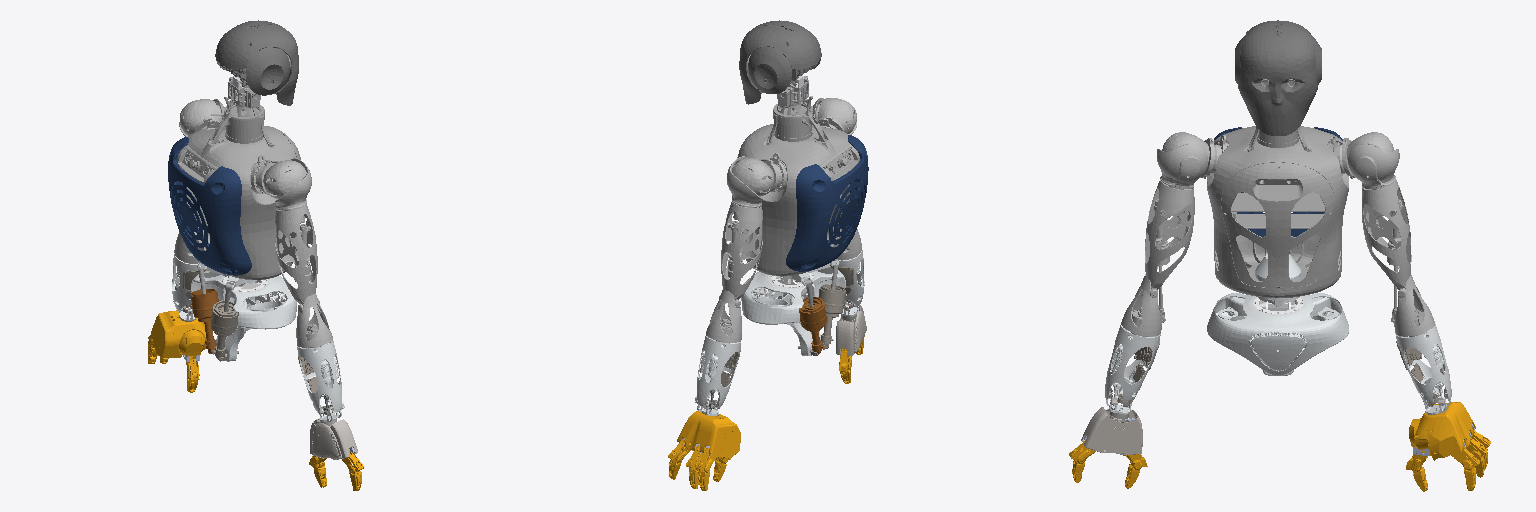
--- What the picture shows (computed from the rendered views, not written in the file) ---
The picture shows the robot from 3 angles, left to right: view 1: azimuth 30°, elevation 25°; view 2: azimuth 150°, elevation 25°; view 3: azimuth 270°, elevation 25°; orthographic projection.
Model RH5v2 with 53 links and 52 joints (39 revolute, 13 fixed), rooted at RH5v2_Root_Link, posed every joint at zero.
Visible links, largest first — view 1: BodyYaw_Link, RH5v2_Root_Link, HeadYaw_Link, ARShoulder3_Link, HeadBase_Link, ARWristRoll_Link, ARWristFT_Link, ALWristFT_Link, ARElbow_Link, ARShoulder1_Link, ALShoulder1_Link, ALWristRoll_Link (+2 smaller); view 2: BodyYaw_Link, RH5v2_Root_Link, HeadYaw_Link, ALShoulder3_Link, ALWristFT_Link, HeadBase_Link, ALWristRoll_Link, ALElbow_Link, ALShoulder1_Link, ARWristFT_Link, ARShoulder1_Link, ARWristRoll_Link (+1 smaller); view 3: BodyYaw_Link, RH5v2_Root_Link, HeadYaw_Link, ARShoulder3_Link, ALShoulder3_Link, ALWristFT_Link, ARWristRoll_Link, ALWristRoll_Link, ARWristFT_Link, ARShoulder2_Link, ALShoulder2_Link, ALElbow_Link (+4 smaller).
Boxes of the visible links, x1,y1,x2,y2 form: BodyYaw_Link: (168,126,300,279); RH5v2_Root_Link: (191,262,296,361); HeadYaw_Link: (215,20,298,105); ARShoulder3_Link: (275,204,317,309); HeadBase_Link: (208,76,271,146); ARWristRoll_Link: (297,340,341,414); ARWristFT_Link: (309,418,363,470); ALWristFT_Link: (148,310,206,357); ARElbow_Link: (296,293,332,350); ARShoulder1_Link: (259,160,306,198); ALShoulder1_Link: (180,99,221,135); ALWristRoll_Link: (172,253,206,311); BodyYaw_Link: (737,124,868,275); RH5v2_Root_Link: (741,259,845,355); HeadYaw_Link: (739,20,821,104); ALShoulder3_Link: (721,202,762,305); ALWristFT_Link: (668,411,740,469); HeadBase_Link: (766,76,828,144); ALWristRoll_Link: (697,336,740,408); ALElbow_Link: (706,289,741,345); ALShoulder1_Link: (732,158,778,195); ARWristFT_Link: (836,303,866,371); ARShoulder1_Link: (815,98,856,133); ARWristRoll_Link: (830,250,864,307); BodyYaw_Link: (1207,126,1348,297); RH5v2_Root_Link: (1207,293,1348,375); HeadYaw_Link: (1235,20,1321,135); ARShoulder3_Link: (1145,179,1194,319); ALShoulder3_Link: (1362,180,1411,315); ALWristFT_Link: (1414,402,1490,465); ARWristRoll_Link: (1105,325,1160,406); ALWristRoll_Link: (1395,324,1451,406); ARWristFT_Link: (1069,407,1147,466); ARShoulder2_Link: (1157,144,1207,188); ALShoulder2_Link: (1348,144,1399,188); ALElbow_Link: (1391,275,1434,336).
Bounding box of the posed robot: 0.3432 × 1.02 × 1.23 m (x, y, z).
Meshes: 83 distinct files referenced, 107 mesh visuals loaded (82 binary STL); not drawn: 1 (reference not matched to a file when rendering).

The robot description file, URDF, robot "RH5v2":
<robot name="RH5v2">
  <joint name="ALBase" type="fixed">
    <origin xyz="-0.025162 0.126091 0.35059" rpy="-6.2e-05 -0.23628 1.309002"/>
    <parent link="BodyYaw_Link"/>
    <child link="ALBase_Link"/>
  </joint>
  <link name="ALBase_Link">
    <inertial>
      <origin xyz="0.0079897 -7.1316e-07 0.00019625" rpy="0.0 0.0 0.0"/>
      <mass value="1.1943"/>
      <inertia ixx="0.00089755" ixy="1.4484e-08" ixz="-2.6127e-07" iyy="0.00057565" iyz="-7.8027e-07" izz="0.00056347"/>
    </inertial>
    <visual name="ALBase_Link_Visual">
      <origin xyz="0.0 0.0 0.0" rpy="0.0 0.0 0.0"/>
      <geometry>
        <mesh filename="../meshes/ALBase_Link.stl"/>
      </geometry>
      <material name="">
        <color rgba="0.75294 0.75294 0.75294 1.0"/>
      </material>
    </visual>
  </link>
  <joint name="ALElbow" type="revolute">
    <origin xyz="0.0 0.001 0.3511" rpy="0.0 0.0 0.0"/>
    <axis xyz="1.0 0.0 0.0"/>
    <parent link="ALShoulder3_Link"/>
    <child link="ALElbow_Link"/>
    <limit effort="400.0" lower="-1.832" upper="0.0" velocity="3.1415926"/>
  </joint>
  <link name="ALElbow_Link">
    <inertial>
      <origin xyz="-7.016e-05 0.001127 0.080286" rpy="0.0 0.0 0.0"/>
      <mass value="0.63578"/>
      <inertia ixx="0.00050999" ixy="2.2297e-07" ixz="4.047e-07" iyy="0.00051633" iyz="-4.4233e-05" izz="0.00046537"/>
    </inertial>
    <visual name="ALElbow_Link_Visual">
      <origin xyz="0.0 0.0 0.0" rpy="0.0 0.0 0.0"/>
      <geometry>
        <mesh filename="../meshes/ALElbow_Link.stl"/>
      </geometry>
      <material name="">
        <color rgba="0.75294 0.75294 0.75294 1.0"/>
      </material>
    </visual>
  </link>
  <joint name="ALShoulder1" type="revolute">
    <origin xyz="0.1076 0.0 0.0" rpy="3.1416 0.0 0.0"/>
    <axis xyz="1.0 0.0 0.0"/>
    <parent link="ALBase_Link"/>
    <child link="ALShoulder1_Link"/>
    <limit effort="400.0" lower="-3.141" upper="3.141" velocity="3.1415926"/>
  </joint>
  <link name="ALShoulder1_Link">
    <inertial>
      <origin xyz="-0.0091569 0.0036464 -0.00016872" rpy="0.0 0.0 0.0"/>
      <mass value="1.602"/>
      <inertia ixx="0.0012117" ixy="-8.0704e-05" ixz="-3.528e-06" iyy="0.0015561" iyz="-2.6511e-06" izz="0.0010024"/>
    </inertial>
    <visual name="ALShoulder1_Link_Visual">
      <origin xyz="0.0 0.0 0.0" rpy="0.0 0.0 0.0"/>
      <geometry>
        <mesh filename="../meshes/ALShoulder1_Link.stl"/>
      </geometry>
      <material name="">
        <color rgba="0.75294 0.75294 0.75294 1.0"/>
      </material>
    </visual>
    <collision name="ALShoulder1_Link_Collision">
      <origin xyz="-0.005334 -0.004665 -0.002299" rpy="1.570796 -1.568017 0.0"/>
      <geometry>
        <box size="0.10423156429999514 0.11759469191533183 0.11808828264474869"/>
      </geometry>
    </collision>
  </link>
  <joint name="ALShoulder2" type="revolute">
    <origin xyz="0.0 0.0 0.0" rpy="0.0 0.0 0.0"/>
    <axis xyz="0.0 1.0 0.0"/>
    <parent link="ALShoulder1_Link"/>
    <child link="ALShoulder2_Link"/>
    <limit effort="400.0" lower="-0.253" upper="1.85" velocity="3.1415926"/>
  </joint>
  <link name="ALShoulder2_Link">
    <inertial>
      <origin xyz="0.010763 0.020477 0.0278" rpy="0.0 0.0 0.0"/>
      <mass value="0.50849"/>
      <inertia ixx="0.0010465" ixy="0.00012061" ixz="5.4855e-05" iyy="0.00092568" iyz="0.00027501" izz="0.0010393"/>
    </inertial>
    <visual name="ALShoulder2_Link_Visual">
      <origin xyz="0.0 0.0 0.0" rpy="0.0 0.0 0.0"/>
      <geometry>
        <mesh filename="../meshes/ALShoulder2_Link.stl"/>
      </geometry>
      <material name="">
        <color rgba="0.75294 0.75294 0.75294 1.0"/>
      </material>
    </visual>
  </link>
  <joint name="ALShoulder3" type="revolute">
    <origin xyz="0.0 0.0 0.0" rpy="0.0 0.0 1.5707"/>
    <axis xyz="0.0 0.0 1.0"/>
    <parent link="ALShoulder2_Link"/>
    <child link="ALShoulder3_Link"/>
    <limit effort="400.0" lower="-3.141" upper="3.141" velocity="3.1415926"/>
  </joint>
  <link name="ALShoulder3_Link">
    <inertial>
      <origin xyz="-3.2703e-05 0.0033688 0.14648" rpy="0.0 0.0 0.0"/>
      <mass value="1.2339570989024182"/>
      <inertia ixx="0.003018389690136292" ixy="5.244538628867092e-07" ixz="-7.893330721032432e-07" iyy="0.002949872956950925" iyz="8.820081539895284e-05" izz="0.0008757347333216593"/>
    </inertial>
    <visual name="ALShoulder3_Link_Visual">
      <origin xyz="0.0 0.0 0.0" rpy="0.0 0.0 0.0"/>
      <geometry>
        <mesh filename="../meshes/ALShoulder3_Link.stl"/>
      </geometry>
      <material name="">
        <color rgba="0.75294 0.75294 0.75294 1.0"/>
      </material>
    </visual>
    <visual name="ALElbowB11_Link_Visual">
      <origin xyz="0.0 -0.029 0.1391" rpy="-0.25319 0.0 0.0"/>
      <geometry>
        <mesh filename="../meshes/ALElbow_B11_Link.stl"/>
      </geometry>
      <material name="">
        <color rgba="0.75294 0.75294 0.75294 1.0"/>
      </material>
    </visual>
    <visual name="ALElbowAct_Link_Visual">
      <origin xyz="0.0 0.045001 0.425102" rpy="-0.25319 0.0 0.0"/>
      <geometry>
        <mesh filename="../meshes/ALElbow_Act_Link.stl"/>
      </geometry>
      <material name="">
        <color rgba="0.75294 0.75294 0.75294 1.0"/>
      </material>
    </visual>
    <collision name="ALShoulder3_Link_Collision">
      <origin xyz="0.000897 0.015259 0.247292" rpy="3.071603 0.037077 0.479525"/>
      <geometry>
        <cylinder radius="0.04989704605643945" length="0.37510071270897083"/>
      </geometry>
    </collision>
  </link>
  <joint name="ALWristFT" type="fixed">
    <origin xyz="-1.2399e-05 0.0 0.042748" rpy="0.0 0.0 1.5708"/>
    <parent link="ALWristYaw_Link"/>
    <child link="ALWristFT_Link"/>
  </joint>
  <link name="ALWristFT_Link">
    <inertial>
      <origin xyz="-3.68488827482899e-05 -5.88316189521624e-05 -0.00791199218667672" rpy="0.0 0.0 0.0"/>
      <mass value="2.3236142268470132"/>
      <inertia ixx="0.0016940457940833257" ixy="5.327619969251473e-05" ixz="3.918511751113743e-06" iyy="0.0009331975295453429" iyz="-2.582742097403667e-05" izz="0.001329614684356007"/>
    </inertial>
    <visual name="ALWristFT_Link_Visual">
      <origin xyz="0.0 0.0 0.0" rpy="0.0 0.0 0.0"/>
      <geometry>
        <mesh filename="../meshes/ALWristFT_Link.stl"/>
      </geometry>
      <material name="">
        <color rgba="0.698039215686274 0.698039215686274 0.698039215686274 1.0"/>
      </material>
    </visual>
    <visual name="GLBase_Visual">
      <origin xyz="0.0 0.0 0.0" rpy="-3.141592 0.0 0.0"/>
      <geometry>
        <mesh filename="../meshes/GripperLeft_BaseFrame.stl" scale="1.0 1.0 1.0"/>
      </geometry>
      <material name="">
        <color rgba="0.94118 0.67451 0.11765 1.0"/>
      </material>
    </visual>
    <visual name="GLF1Base_Visual">
      <origin xyz="-0.013458 -0.038971 0.065211" rpy="1.7921 0.1664 -1.533593"/>
      <geometry>
        <mesh filename="../meshes/Finger_Base_Frame.stl"/>
      </geometry>
      <material name="">
        <color rgba="0.79216 0.81961 0.93333 1.0"/>
      </material>
    </visual>
    <visual name="GLF1ProximalBar_Visual">
      <origin xyz="-0.053439 -0.029588 0.079319" rpy="0.6783 0.1664 -1.533593"/>
      <geometry>
        <mesh filename="../meshes/F_ProximalBar_Frame.stl"/>
      </geometry>
      <material name="">
        <color rgba="0.94118 0.67451 0.11765 1.0"/>
      </material>
    </visual>
    <visual name="GLF2Base_Visual">
      <origin xyz="-0.014454 0.012122 0.06971" rpy="1.7907 -0.12478 -1.598593"/>
      <geometry>
        <mesh filename="../meshes/Finger_Base_Frame.stl"/>
      </geometry>
      <material name="">
        <color rgba="0.79216 0.81961 0.93333 1.0"/>
      </material>
    </visual>
    <visual name="GLF2ProximalBar_Visual">
      <origin xyz="-0.053624 0.02768 0.080161" rpy="0.6769 -0.12478 -1.598593"/>
      <geometry>
        <mesh filename="../meshes/F_ProximalBar_Frame.stl"/>
      </geometry>
      <material name="">
        <color rgba="0.94118 0.67451 0.11765 1.0"/>
      </material>
    </visual>
    <visual name="GLF3Base_Visual">
      <origin xyz="-0.013488 0.046837 0.065354" rpy="1.7907 -0.124785 -1.598609"/>
      <geometry>
        <mesh filename="../meshes/Finger_Base_Frame.stl"/>
      </geometry>
      <material name="">
        <color rgba="0.79216 0.81961 0.93333 1.0"/>
      </material>
    </visual>
    <visual name="GLF3ProximalBar_Visual">
      <origin xyz="-0.052657 0.062395 0.075805" rpy="0.6769 -0.124785 -1.598609"/>
      <geometry>
        <mesh filename="../meshes/F_ProximalBar_Frame.stl"/>
      </geometry>
      <material name="">
        <color rgba="0.94118 0.67451 0.11765 1.0"/>
      </material>
    </visual>
    <collision name="ALWristFT_Link_Collision">
      <origin xyz="0.0 0.0 0.0" rpy="0.0 0.0 0.0"/>
      <geometry>
        <mesh filename="../meshes/ALWristFT_Link_abstract-urdf_joined_convexhull_convexhull.stl" scale="1.0 1.0 1.0"/>
      </geometry>
    </collision>
  </link>
  <joint name="ALWristPitch" type="revolute">
    <origin xyz="0.173 0.0 0.0" rpy="-3.141592 -1.5707 0.0"/>
    <axis xyz="1.0 0.0 0.0"/>
    <parent link="ALWristRoll_Link"/>
    <child link="ALWristPitch_Link"/>
    <limit effort="400.0" lower="-0.741" upper="1.75" velocity="3.1415926"/>
  </joint>
  <link name="ALWristPitch_Link">
    <inertial>
      <origin xyz="7.46248686255566e-19 -1.12543960307545e-16 -1.73472347597681e-18" rpy="0.0 0.0 0.0"/>
      <mass value="0.0303458029555441"/>
      <inertia ixx="1.0000000011242503e-05" ixy="-1.991593733750814e-21" ixz="1.3686128944734017e-10" iyy="1.0143779057796202e-05" iyz="1.3756897885334319e-10" izz="1.1666089364158581e-05"/>
    </inertial>
    <visual name="ALWristPitch_Link_Visual">
      <origin xyz="0.0 0.0 0.0" rpy="0.0 0.0 0.0"/>
      <geometry>
        <mesh filename="../meshes/ALWristPitch_Link.stl"/>
      </geometry>
      <material name="">
        <color rgba="0.647058823529412 0.619607843137255 0.588235294117647 1.0"/>
      </material>
    </visual>
  </link>
  <joint name="ALWristRoll" type="revolute">
    <origin xyz="0.0 0.0 0.122" rpy="3.1416 -1.5708 0.0"/>
    <axis xyz="1.0 0.0 0.0"/>
    <parent link="ALElbow_Link"/>
    <child link="ALWristRoll_Link"/>
    <limit effort="400.0" lower="-3.141" upper="3.141" velocity="3.1415926"/>
  </joint>
  <link name="ALWristRoll_Link">
    <inertial>
      <origin xyz="-1.6653e-16 -1.9082e-17 -1.3878e-17" rpy="0.0 0.0 0.0"/>
      <mass value="0.7033685822573504"/>
      <inertia ixx="0.0005821306127384855" ixy="-2.154099528058666e-05" ixz="8.844203152040483e-08" iyy="0.0014430712704366834" iyz="-3.423769519967645e-07" izz="0.001429208900586326"/>
    </inertial>
    <visual name="ALWristRoot_Link_Visual">
      <origin xyz="0.173 0.0 0.0" rpy="-3.141592 -1.5707 0.0"/>
      <geometry>
        <mesh filename="../meshes/ALWrist_Root_Link.stl"/>
      </geometry>
      <material name="">
        <color rgba="0.64706 0.61961 0.58824 1.0"/>
      </material>
    </visual>
    <visual name="ALWristBL1_Link_Visual">
      <origin xyz="0.141001 -0.011 0.015503" rpy="0.259193 -1.5707 0.0"/>
      <geometry>
        <mesh filename="../meshes/ALWrist_BL1_Link.stl"/>
      </geometry>
      <material name="">
        <color rgba="0.89804 0.91765 0.92941 1.0"/>
      </material>
    </visual>
    <visual name="ALWristBR1_Link_Visual">
      <origin xyz="0.140999 -0.011 -0.015497" rpy="0.259193 -1.5707 0.0"/>
      <geometry>
        <mesh filename="../meshes/ALWrist_BR1_Link.stl"/>
      </geometry>
      <material name="">
        <color rgba="0.89804 0.91765 0.92941 1.0"/>
      </material>
    </visual>
    <visual name="ALWristAL1_Link_Visual">
      <origin xyz="-0.004999 0.034 0.015517" rpy="-1.553092 -1.5707 0.0"/>
      <geometry>
        <mesh filename="../meshes/ALWrist_AL1_Link.stl"/>
      </geometry>
      <material name="">
        <color rgba="0.898039215686275 0.917647058823529 0.929411764705882 1.0"/>
      </material>
    </visual>
    <visual name="ALWristAR1_Link_Visual">
      <origin xyz="-0.005002 0.034 -0.015483" rpy="-1.553092 -1.5707 0.0"/>
      <geometry>
        <mesh filename="../meshes/ALWrist_AR1_Link.stl"/>
      </geometry>
      <material name="">
        <color rgba="0.89804 0.91765 0.92941 1.0"/>
      </material>
    </visual>
    <visual name="ALWristActL_Link_Visual">
      <origin xyz="0.12844 0.036363 0.015504" rpy="-3.123892 -1.5707 0.0"/>
      <geometry>
        <mesh filename="../meshes/ALWrist_ActL_Link.stl"/>
      </geometry>
      <material name="">
        <color rgba="0.77647 0.75686 0.73725 1.0"/>
      </material>
    </visual>
    <visual name="ALWristActR_Link_Visual">
      <origin xyz="0.128437 0.036363 -0.015496" rpy="-3.123892 -1.5707 0.0"/>
      <geometry>
        <mesh filename="../meshes/ALWrist_ActR_Link.stl"/>
      </geometry>
      <material name="">
        <color rgba="0.776470588235294 0.756862745098039 0.737254901960784 1.0"/>
      </material>
    </visual>
    <visual name="ALWristBase_Link_Visual">
      <origin xyz="0.005 0.0 1.6e-05" rpy="3.141592 0.0001 0.0"/>
      <geometry>
        <mesh filename="../meshes/ALWrist_Base_Link.stl"/>
      </geometry>
      <material name="">
        <color rgba="0.898039215686275 0.917647058823529 0.929411764705882 1.0"/>
      </material>
    </visual>
    <collision name="ALWristRoll_Link_Collision">
      <origin xyz="0.081951 0.005319 -0.000273" rpy="1.529155 1.46726 -1.538407"/>
      <geometry>
        <cylinder radius="0.051451062143852824" length="0.19892359808020985"/>
      </geometry>
    </collision>
  </link>
  <joint name="ALWristYaw" type="revolute">
    <origin xyz="0.0 0.0 0.0" rpy="0.0 0.0 0.0"/>
    <axis xyz="0.0 1.0 0.0"/>
    <parent link="ALWristPitch_Link"/>
    <child link="ALWristYaw_Link"/>
    <limit effort="400.0" lower="-0.558" upper="0.593" velocity="3.1415926"/>
  </joint>
  <link name="ALWristYaw_Link">
    <inertial>
      <origin xyz="-5.96363888886987e-05 -0.0112217565403197 0.0117774710310118" rpy="0.0 0.0 0.0"/>
      <mass value="0.10750136275617479"/>
      <inertia ixx="9.569999289058725e-05" ixy="3.991714785811547e-09" ixz="8.851102122859254e-10" iyy="9.18996227981749e-05" iyz="-1.4768286024721997e-06" izz="9.710214049049775e-05"/>
    </inertial>
    <visual name="ALWristYaw_Link_Visual">
      <origin xyz="0.0 0.0 0.0" rpy="0.0 0.0 0.0"/>
      <geometry>
        <mesh filename="../meshes/ALWristYaw_Link.stl"/>
      </geometry>
      <material name="">
        <color rgba="0.898039215686275 0.917647058823529 0.929411764705882 1.0"/>
      </material>
    </visual>
    <visual name="ALWristBL4_Link_Visual">
      <origin xyz="0.027 -0.03 0.0" rpy="2.9998 0.0 0.0"/>
      <geometry>
        <mesh filename="../meshes/ALWrist_BL4_Link.stl"/>
      </geometry>
      <material name="">
        <color rgba="0.776470588235294 0.756862745098039 0.737254901960784 1.0"/>
      </material>
    </visual>
    <visual name="ALWristBR4_Link_Visual">
      <origin xyz="-0.027 -0.03 0.0" rpy="-2.9998 0.0 3.141585"/>
      <geometry>
        <mesh filename="../meshes/ALWrist_BR4_Link.stl"/>
      </geometry>
      <material name="">
        <color rgba="0.647058823529412 0.619607843137255 0.588235294117647 1.0"/>
      </material>
    </visual>
    <visual name="ALWristBL3_Link_Visual">
      <origin xyz="0.027 -0.03 0.0" rpy="2.999779 0.017082 -0.002439"/>
      <geometry>
        <mesh filename="../meshes/ALWrist_BL3_Link.stl"/>
      </geometry>
      <material name="">
        <color rgba="0.898039215686275 0.917647058823529 0.929411764705882 1.0"/>
      </material>
    </visual>
    <visual name="ALWristBR3_Link_Visual">
      <origin xyz="-0.027 -0.03 0.0" rpy="-2.999779 0.017082 -3.139161"/>
      <geometry>
        <mesh filename="../meshes/ALWrist_BR3_Link.stl"/>
      </geometry>
      <material name="">
        <color rgba="0.529411764705882 0.549019607843137 0.549019607843137 1.0"/>
      </material>
    </visual>
    <visual name="ALWristBL2_Link_Visual">
      <origin xyz="0.026223 -0.036361 -0.04456" rpy="2.999779 0.017082 -0.002439"/>
      <geometry>
        <mesh filename="../meshes/ALWrist_BL2_Link.stl"/>
      </geometry>
      <material name="">
        <color rgba="0.647058823529412 0.619607843137255 0.588235294117647 1.0"/>
      </material>
    </visual>
    <visual name="ALWristBR2_Link_Visual">
      <origin xyz="-0.026223 -0.036361 -0.04456" rpy="-2.999779 0.017082 -3.139161"/>
      <geometry>
        <mesh filename="../meshes/ALWrist_BR2_Link.stl"/>
      </geometry>
      <material name="">
        <color rgba="0.647058823529412 0.619607843137255 0.588235294117647 1.0"/>
      </material>
    </visual>
  </link>
  <joint name="ARBase" type="fixed">
    <origin xyz="-0.025162 -0.126089 0.35059" rpy="6e-05 -0.236287 -1.308995"/>
    <parent link="BodyYaw_Link"/>
    <child link="ARBase_Link"/>
  </joint>
  <link name="ARBase_Link">
    <inertial>
      <origin xyz="0.00799 1e-06 0.000196" rpy="0.0 0.0 0.0"/>
      <mass value="1.194300000000001"/>
      <inertia ixx="0.00089755" ixy="-1.4484e-08" ixz="-2.6127e-07" iyy="0.00057565" iyz="7.8027e-07" izz="0.00056347"/>
    </inertial>
    <visual name="ARBase_Link_Visual">
      <origin xyz="0.0 0.0 0.0" rpy="3.141593 0.0 0.0"/>
      <geometry>
        <mesh filename="../meshes/ARBase_Link.stl" scale="1.0 1.0 1.0"/>
      </geometry>
      <material name="">
        <color rgba="0.75294 0.75294 0.75294 1.0"/>
      </material>
    </visual>
  </link>
  <joint name="ARElbow" type="revolute">
    <origin xyz="0.0 0.001 -0.3511" rpy="-3.141592 0.0 -3.141592"/>
    <axis xyz="1.0 0.0 0.0"/>
    <parent link="ARShoulder3_Link"/>
    <child link="ARElbow_Link"/>
    <limit effort="400.0" lower="-1.832" upper="0.0" velocity="3.1415926"/>
  </joint>
  <link name="ARElbow_Link">
    <inertial>
      <origin xyz="7e-05 0.001127 0.080286" rpy="0.0 0.0 0.0"/>
      <mass value="0.6357799999999997"/>
      <inertia ixx="0.0005099900001544764" ixy="-2.2297207206594354e-07" ixz="-4.0468474586715554e-07" iyy="0.0005163300270204655" iyz="-4.423298448630883e-05" izz="0.00046536997282505774"/>
    </inertial>
    <visual name="ARElbow_Link_Visual">
      <origin xyz="0.0 -0.0 0.0" rpy="0.0 0.0 3.141593"/>
      <geometry>
        <mesh filename="../meshes/ARElbow_Link.stl" scale="1.0 1.0 1.0"/>
      </geometry>
      <material name="">
        <color rgba="0.75294 0.75294 0.75294 1.0"/>
      </material>
    </visual>
  </link>
  <joint name="ARShoulder1" type="revolute">
    <origin xyz="0.1076 0.0 0.0" rpy="-3.141585 0.0 3.141593"/>
    <axis xyz="1.0 0.0 0.0"/>
    <parent link="ARBase_Link"/>
    <child link="ARShoulder1_Link"/>
    <limit effort="400.0" lower="-3.141" upper="3.141" velocity="3.1415926"/>
  </joint>
  <link name="ARShoulder1_Link">
    <inertial>
      <origin xyz="0.009157 0.003646 -0.000169" rpy="0.0 0.0 0.0"/>
      <mass value="1.6019999999999996"/>
      <inertia ixx="0.0012116999440866811" ixy="8.070387961256474e-05" ixz="3.5280257083975037e-06" iyy="0.001556100057542011" iyz="-2.650928692723903e-06" izz="0.0010023999983713062"/>
    </inertial>
    <visual name="ARShoulder1_Link_Visual">
      <origin xyz="0.0 0.0 0.0" rpy="0.0 0.0 3.141593"/>
      <geometry>
        <mesh filename="../meshes/ARShoulder1_Link.stl" scale="1.0 1.0 1.0"/>
      </geometry>
      <material name="">
        <color rgba="0.75294 0.75294 0.75294 1.0"/>
      </material>
    </visual>
    <collision name="ARShoulder1_Link_Collision">
      <origin xyz="0.005334 -0.004665 -0.002299" rpy="1.570864 -1.568017 3.141524"/>
      <geometry>
        <box size="0.10423156228792974 0.11759469416421084 0.11808829016245809"/>
      </geometry>
    </collision>
  </link>
  <joint name="ARShoulder2" type="revolute">
    <origin xyz="0.0 0.0 0.0" rpy="0.0 0.0 -3.141592"/>
    <axis xyz="0.0 1.0 0.0"/>
    <parent link="ARShoulder1_Link"/>
    <child link="ARShoulder2_Link"/>
    <limit effort="400.0" lower="-0.253" upper="1.85" velocity="3.1415926"/>
  </joint>
  <link name="ARShoulder2_Link">
    <inertial>
      <origin xyz="0.010763 -0.020477 0.0278" rpy="0.0 0.0 0.0"/>
      <mass value="0.5084917431461261"/>
      <inertia ixx="0.0010464999259024192" ixy="-0.00012061005396444852" ixz="5.485487847357631e-05" iyy="0.0009256802430528081" iyz="-0.0002750100517516733" izz="0.0010392998310447714"/>
    </inertial>
    <visual name="ARShoulder2_Link_Visual">
      <origin xyz="0.0 0.0 0.0" rpy="0.0 0.0 0.0"/>
      <geometry>
        <mesh filename="../meshes/ARShoulder2_Link.stl" scale="1.0 1.0 1.0"/>
      </geometry>
      <material name="">
        <color rgba="0.75294 0.75294 0.75294 1.0"/>
      </material>
    </visual>
  </link>
  <joint name="ARShoulder3" type="revolute">
    <origin xyz="0.0 0.0 0.0" rpy="-3.141593 1e-06 -1.5707"/>
    <axis xyz="0.0 0.0 1.0"/>
    <parent link="ARShoulder2_Link"/>
    <child link="ARShoulder3_Link"/>
    <limit effort="400.0" lower="-3.141" upper="3.141" velocity="3.1415926"/>
  </joint>
  <link name="ARShoulder3_Link">
    <inertial>
      <origin xyz="-3.3e-05 0.003369 -0.14648" rpy="0.0 0.0 0.0"/>
      <mass value="1.234192269223629"/>
      <inertia ixx="0.00301838969045024" ixy="4.912225146677912e-07" ixz="7.838079927452957e-07" iyy="0.002950009395837918" iyz="-6.793901609925075e-05" izz="0.0008755982941207169"/>
    </inertial>
    <visual name="ARShoulder3_Link_Visual">
      <origin xyz="0.0 0.0 0.0" rpy="3.141593 0.0 0.0"/>
      <geometry>
        <mesh filename="../meshes/ARShoulder3_Link.stl" scale="1.0 1.0 1.0"/>
      </geometry>
      <material name="">
        <color rgba="0.75294 0.75294 0.75294 1.0"/>
      </material>
    </visual>
    <visual name="ARElbowB11_Link_Visual">
      <origin xyz="0.0 -0.029 -0.1391" rpy="2.888403 0.0 -3.141592"/>
      <geometry>
        <mesh filename="../meshes/ARElbow_B11_Link.stl" scale="1.0 1.0 1.0"/>
      </geometry>
      <material name="">
        <color rgba="0.75294 0.75294 0.75294 1.0"/>
      </material>
    </visual>
    <visual name="ARElbowAct_Link_Visual">
      <origin xyz="0.0 0.045001 -0.425102" rpy="2.888403 0.0 3.141592"/>
      <geometry>
        <mesh filename="../meshes/ARElbow_Act_Link.stl" scale="1.0 1.0 1.0"/>
      </geometry>
      <material name="">
        <color rgba="0.75294 0.75294 0.75294 1.0"/>
      </material>
    </visual>
    <collision name="ARShoulder3_Link_Collision">
      <origin xyz="0.000897 0.015259 -0.247292" rpy="0.06999 -0.037077 0.479526"/>
      <geometry>
        <cylinder radius="0.04989704634130358" length="0.37510067633392874"/>
      </geometry>
    </collision>
  </link>
  <joint name="ARWristFT" type="fixed">
    <origin xyz="-1.2e-05 0.0 -0.042748" rpy="3.141593 0.0 1.5708"/>
    <parent link="ARWristYaw_Link"/>
    <child link="ARWristFT_Link"/>
  </joint>
  <link name="ARWristFT_Link">
    <inertial>
      <origin xyz="-3.7e-05 5.8e-05 -0.007912" rpy="0.0 0.0 0.0"/>
      <mass value="0.6716341882152597"/>
      <inertia ixx="0.0002471607631168521" ixy="-1.2947206607771007e-07" ixz="-7.211116735608899e-07" iyy="0.0004114610354509037" iyz="-3.1627128739890997e-06" izz="0.0003044465748229154"/>
    </inertial>
    <visual name="ARWristFT_Link_Visual">
      <origin xyz="0.0 -0.0 0.0" rpy="0.0 0.0 3.141593"/>
      <geometry>
        <mesh filename="../meshes/ARWristFT_Link.stl" scale="1.0 1.0 1.0"/>
      </geometry>
      <material name="">
        <color rgba="0.698039215686274 0.698039215686274 0.698039215686274 1.0"/>
      </material>
    </visual>
    <visual name="GRBase_Visual">
      <origin xyz="0.0 0.0 0.0" rpy="0.0 0.0 3.141593"/>
      <geometry>
        <mesh filename="../meshes/2FGripper_BaseFrame.stl"/>
      </geometry>
      <material name="">
        <color rgba="0.77647 0.75686 0.73725 1.0"/>
      </material>
    </visual>
    <visual name="GRF1Base_Visual">
      <origin xyz="0.021725 0.013001 0.064903" rpy="1.789 0.0 1.570793"/>
      <geometry>
        <mesh filename="../meshes/Finger_Base_Frame.stl"/>
      </geometry>
      <material name="">
        <color rgba="0.79216 0.81961 0.93333 1.0"/>
      </material>
    </visual>
    <visual name="GRF1ProximalBar_Visual">
      <origin xyz="0.061291 -4.9e-05 0.07714" rpy="0.6752 0.0 1.570793"/>
      <geometry>
        <mesh filename="../meshes/F_ProximalBar_Frame.stl"/>
      </geometry>
      <material name="">
        <color rgba="0.94118 0.67451 0.11765 1.0"/>
      </material>
    </visual>
    <visual name="GRF2Base_Visual">
      <origin xyz="-0.02175 -0.012996 0.064903" rpy="1.789 0.0 -1.570793"/>
      <geometry>
        <mesh filename="../meshes/Finger_Base_Frame.stl"/>
      </geometry>
      <material name="">
        <color rgba="0.79216 0.81961 0.93333 1.0"/>
      </material>
    </visual>
    <visual name="GRF2ProximalBar_Visual">
      <origin xyz="-0.061316 5.4e-05 0.07714" rpy="0.6752 0.0 -1.570793"/>
      <geometry>
        <mesh filename="../meshes/F_ProximalBar_Frame.stl"/>
      </geometry>
      <material name="">
        <color rgba="0.94118 0.67451 0.11765 1.0"/>
      </material>
    </visual>
    <collision name="ARWristFT_Link_Collision">
      <origin xyz="0.0 0.0 0.0" rpy="0.0 0.0 0.0"/>
      <geometry>
        <mesh filename="../meshes/ARWristFT_Link_abstract-urdf_joined_convexhull_convexhull.stl" scale="1.0 1.0 1.0"/>
      </geometry>
    </collision>
  </link>
  <joint name="ARWristPitch" type="revolute">
    <origin xyz="-0.173 0.0 0.0" rpy="1e-06 -1.5707 3.141592"/>
    <axis xyz="1.0 0.0 0.0"/>
    <parent link="ARWristRoll_Link"/>
    <child link="ARWristPitch_Link"/>
    <limit effort="400.0" lower="-0.741" upper="1.75" velocity="3.1415926"/>
  </joint>
  <link name="ARWristPitch_Link">
    <inertial>
      <origin xyz="0.0 0.0 0.0" rpy="0.0 0.0 0.0"/>
      <mass value="0.030345802955544107"/>
      <inertia ixx="1.0000000011242574e-05" ixy="-9.966047055450726e-14" ixz="-1.3686119410217597e-10" iyy="1.014377905770101e-05" iyz="-1.3704172984466683e-10" izz="1.1666089364253713e-05"/>
    </inertial>
    <visual name="ARWristPitch_Link_Visual">
      <origin xyz="0.0 0.0 0.0" rpy="3.141593 0.0 -0.0"/>
      <geometry>
        <mesh filename="../meshes/ARWristPitch_Link.stl" scale="1.0 1.0 1.0"/>
      </geometry>
      <material name="">
        <color rgba="0.647058823529412 0.619607843137255 0.588235294117647 1.0"/>
      </material>
    </visual>
  </link>
  <joint name="ARWristRoll" type="revolute">
    <origin xyz="0.0 0.0 0.122" rpy="0.08344 1.570793 -3.058159"/>
    <axis xyz="1.0 0.0 0.0"/>
    <parent link="ARElbow_Link"/>
    <child link="ARWristRoll_Link"/>
    <limit effort="400.0" lower="-3.141" upper="3.141" velocity="3.1415926"/>
  </joint>
  <link name="ARWristRoll_Link">
    <inertial>
      <origin xyz="0.0 0.0 0.0" rpy="0.0 0.0 0.0"/>
      <mass value="0.7033688190260035"/>
      <inertia ixx="0.0005916303368315207" ixy="1.8786395819733512e-05" ixz="4.39414100752391e-07" iyy="0.0014425181526205467" iyz="1.3092611416089477e-06" izz="0.001420262294309424"/>
    </inertial>
    <visual name="ARWristRoot_Link_Visual">
      <origin xyz="-0.173 0.0 0.0" rpy="-0.010381 -1.5707 -3.131212"/>
      <geometry>
        <mesh filename="../meshes/ARWrist_Root_Link.stl" scale="1.0 1.0 1.0"/>
      </geometry>
      <material name="">
        <color rgba="0.64706 0.61961 0.58824 1.0"/>
      </material>
    </visual>
    <visual name="ARWristBase_Link_Visual">
      <origin xyz="-0.005 0.0 1.6e-05" rpy="-0.0 0.0001 3.141592"/>
      <geometry>
        <mesh filename="../meshes/ARWrist_Base_Link.stl" scale="1.0 1.0 1.0"/>
      </geometry>
      <material name="">
        <color rgba="0.898039215686275 0.917647058823529 0.929411764705882 1.0"/>
      </material>
    </visual>
    <visual name="ARWristBL1_Link_Visual">
      <origin xyz="-0.141001 -0.011 0.015503" rpy="0.262789 1.5707 0.003596"/>
      <geometry>
        <mesh filename="../meshes/ARWrist_BL1_Link.stl" scale="1.0 1.0 1.0"/>
      </geometry>
      <material name="">
        <color rgba="0.89804 0.91765 0.92941 1.0"/>
      </material>
    </visual>
    <visual name="ARWristBR1_Link_Visual">
      <origin xyz="-0.140999 -0.011 -0.015497" rpy="0.262789 1.5707 0.003596"/>
      <geometry>
        <mesh filename="../meshes/ARWrist_BR1_Link.stl" scale="1.0 1.0 1.0"/>
      </geometry>
      <material name="">
        <color rgba="0.89804 0.91765 0.92941 1.0"/>
      </material>
    </visual>
    <visual name="ARWristAL1_Link_Visual">
      <origin xyz="0.004999 0.034 0.015517" rpy="-1.59202 -1.5707 -3.138073"/>
      <geometry>
        <mesh filename="../meshes/ARWrist_AL1_Link.stl" scale="1.0 1.0 1.0"/>
      </geometry>
      <material name="">
        <color rgba="0.898039215686275 0.917647058823529 0.929411764705882 1.0"/>
      </material>
    </visual>
    <visual name="ARWristAR1_Link_Visual">
      <origin xyz="0.005002 0.034 -0.015483" rpy="-1.59202 -1.5707 -3.138073"/>
      <geometry>
        <mesh filename="../meshes/ARWrist_AR1_Link.stl" scale="1.0 1.0 1.0"/>
      </geometry>
      <material name="">
        <color rgba="0.89804 0.91765 0.92941 1.0"/>
      </material>
    </visual>
    <visual name="ARWristActL_Link_Visual">
      <origin xyz="-0.12844 0.036363 0.015504" rpy="-3.116778 1.5707 0.007115"/>
      <geometry>
        <mesh filename="../meshes/ARWrist_ActL_Link.stl" scale="1.0 1.0 1.0"/>
      </geometry>
      <material name="">
        <color rgba="0.77647 0.75686 0.73725 1.0"/>
      </material>
    </visual>
    <visual name="ARWristActR_Link_Visual">
      <origin xyz="-0.128437 0.036363 -0.015496" rpy="-3.116778 1.5707 0.007115"/>
      <geometry>
        <mesh filename="../meshes/ARWrist_ActR_Link.stl" scale="1.0 1.0 1.0"/>
      </geometry>
      <material name="">
        <color rgba="0.776470588235294 0.756862745098039 0.737254901960784 1.0"/>
      </material>
    </visual>
    <collision name="ARWristRoll_Link_Collision">
      <origin xyz="-0.082074 0.004996 7.7e-05" rpy="1.573981 -1.456134 1.499219"/>
      <geometry>
        <cylinder radius="0.05148215160112248" length="0.19860593068003446"/>
      </geometry>
    </collision>
  </link>
  <joint name="ARWristYaw" type="revolute">
    <origin xyz="0.0 0.0 0.0" rpy="0.0 0.0 1e-06"/>
    <axis xyz="0.0 1.0 0.0"/>
    <parent link="ARWristPitch_Link"/>
    <child link="ARWristYaw_Link"/>
    <limit effort="400.0" lower="-0.558" upper="0.593" velocity="3.1415926"/>
  </joint>
  <link name="ARWristYaw_Link">
    <inertial>
      <origin xyz="-6e-05 -0.011222 -0.011777" rpy="0.0 0.0 0.0"/>
      <mass value="0.10750136966870347"/>
      <inertia ixx="9.569999286517143e-05" ixy="3.986826280198922e-09" ixz="-3.576322658593033e-08" iyy="9.189962167408604e-05" iyz="1.4768102833142402e-06" izz="9.710214164000237e-05"/>
    </inertial>
    <visual name="ARWristYaw_Link_Visual">
      <origin xyz="0.0 0.0 0.0" rpy="3.141593 0.0 3.141592"/>
      <geometry>
        <mesh filename="../meshes/ARWristYaw_Link.stl" scale="1.0 1.0 1.0"/>
      </geometry>
      <material name="">
        <color rgba="0.898039215686275 0.917647058823529 0.929411764705882 1.0"/>
      </material>
    </visual>
    <visual name="ARWristBL4_Link_Visual">
      <origin xyz="0.027 -0.03 0.0" rpy="-0.141793 0.0 3.141592"/>
      <geometry>
        <mesh filename="../meshes/ARWrist_BL4_Link.stl" scale="1.0 1.0 1.0"/>
      </geometry>
      <material name="">
        <color rgba="0.776470588235294 0.756862745098039 0.737254901960784 1.0"/>
      </material>
    </visual>
    <visual name="ARWristBR4_Link_Visual">
      <origin xyz="-0.027 -0.03 0.0" rpy="0.141793 0.0 -8e-06"/>
      <geometry>
        <mesh filename="../meshes/ARWrist_BR4_Link.stl" scale="1.0 1.0 1.0"/>
      </geometry>
      <material name="">
        <color rgba="0.647058823529412 0.619607843137255 0.588235294117647 1.0"/>
      </material>
    </visual>
    <visual name="ARWristBL3_Link_Visual">
      <origin xyz="0.027 -0.03 0.0" rpy="-0.141814 0.017082 3.139153"/>
      <geometry>
        <mesh filename="../meshes/ARWrist_BL3_Link.stl" scale="1.0 1.0 1.0"/>
      </geometry>
      <material name="">
        <color rgba="0.898039215686275 0.917647058823529 0.929411764705882 1.0"/>
      </material>
    </visual>
    <visual name="ARWristBR3_Link_Visual">
      <origin xyz="-0.027 -0.03 0.0" rpy="0.141814 0.017082 0.002432"/>
      <geometry>
        <mesh filename="../meshes/ARWrist_BR3_Link.stl" scale="1.0 1.0 1.0"/>
      </geometry>
      <material name="">
        <color rgba="0.529411764705882 0.549019607843137 0.549019607843137 1.0"/>
      </material>
    </visual>
    <visual name="ARWristBL2_Link_Visual">
      <origin xyz="0.026223 -0.036361 0.04456" rpy="-0.141814 0.017082 3.139153"/>
      <geometry>
        <mesh filename="../meshes/ARWrist_BL2_Link.stl" scale="1.0 1.0 1.0"/>
      </geometry>
      <material name="">
        <color rgba="0.647058823529412 0.619607843137255 0.588235294117647 1.0"/>
      </material>
    </visual>
    <visual name="ARWristBR2_Link_Visual">
      <origin xyz="-0.026223 -0.036361 0.04456" rpy="0.141814 0.017082 0.002432"/>
      <geometry>
        <mesh filename="../meshes/ARWrist_BR2_Link.stl" scale="1.0 1.0 1.0"/>
      </geometry>
      <material name="">
        <color rgba="0.647058823529412 0.619607843137255 0.588235294117647 1.0"/>
      </material>
    </visual>
  </link>
  <joint name="BodyPitch" type="revolute">
    <origin xyz="0.0 0.0 0.016" rpy="0.0 0.0 -4e-06"/>
    <axis xyz="0.0 1.0 0.0"/>
    <parent link="RH5v2_Root_Link"/>
    <child link="BodyPitch_Link"/>
    <limit effort="400.0" lower="-0.349" upper="0.527" velocity="3.1415926"/>
  </joint>
  <link name="BodyPitch_Link">
    <inertial>
      <origin xyz="0.0 0.0 0.0" rpy="0.0 0.0 0.0"/>
      <mass value="0.076413"/>
      <inertia ixx="1.3771000000001387e-05" ixy="2.1212999999995475e-12" ixz="2.1080999098829268e-12" iyy="1.3770999999998615e-05" iyz="-2.7576068891630696e-13" izz="2.4637e-05"/>
    </inertial>
    <visual name="BodyPitch_Visual">
      <origin xyz="0.0 0.0 0.0" rpy="0.0 0.0 -1.570796"/>
      <geometry>
        <mesh filename="../meshes/BodyPitch.stl"/>
      </geometry>
      <material name="">
        <color rgba="0.89804 0.91765 0.92941 1.0"/>
      </material>
    </visual>
  </link>
  <joint name="BodyRoll" type="revolute">
    <origin xyz="0.0 0.0 0.0" rpy="0.0 0.0 -0.0"/>
    <axis xyz="1.0 0.0 0.0"/>
    <parent link="BodyPitch_Link"/>
    <child link="BodyRoll_Link"/>
    <limit effort="400.0" lower="-0.448" upper="0.448" velocity="3.1415926"/>
  </joint>
  <link name="BodyRoll_Link">
    <inertial>
      <origin xyz="-0.009734 1.6e-05 0.052947" rpy="0.0 0.0 0.0"/>
      <mass value="1.4553"/>
      <inertia ixx="0.001065799999518147" ixy="-7.372513070271073e-07" ixz="-6.32019993920274e-06" iyy="0.001000600000481853" iyz="1.8604206540909618e-07" izz="0.0017602"/>
    </inertial>
    <visual name="BodyRoll_Visual">
      <origin xyz="0.0 0.0 0.0" rpy="0.0 0.0 -1.570796"/>
      <geometry>
        <mesh filename="../meshes/BodyRoll.stl"/>
      </geometry>
      <material name="">
        <color rgba="0.89804 0.91765 0.92941 1.0"/>
      </material>
    </visual>
  </link>
  <joint name="BodyYaw" type="revolute">
    <origin xyz="0.0 0.0 0.0" rpy="0.0 0.0 -0.0"/>
    <axis xyz="0.0 0.0 1.0"/>
    <parent link="BodyRoll_Link"/>
    <child link="BodyYaw_Link"/>
    <limit effort="400.0" lower="-3.141" upper="3.141" velocity="3.1415926"/>
  </joint>
  <link name="BodyYaw_Link">
    <inertial>
      <origin xyz="5e-06 0.0 0.062225" rpy="0.0 0.0 0.0"/>
      <mass value="9.6243225023482"/>
      <inertia ixx="0.23093456009646005" ixy="-4.4100097304928046e-05" ixz="0.0055615026589329155" iyy="0.16174159908651825" iyz="-0.0001812479769896435" izz="0.13955083529859266"/>
    </inertial>
    <visual name="BodyYaw_Visual">
      <origin xyz="0.0 0.0 0.0" rpy="0.0 0.0 -1.570796"/>
      <geometry>
        <mesh filename="../meshes/BodyYaw.stl"/>
      </geometry>
      <material name="">
        <color rgba="0.89804 0.91765 0.92941 1.0"/>
      </material>
    </visual>
    <visual name="base_link_torso_Visual">
      <origin xyz="0.0 0.0 0.0525" rpy="1.5708 -1.570793 1.570796"/>
      <geometry>
        <mesh filename="../meshes/base_link_torso.stl"/>
      </geometry>
      <material name="">
        <color rgba="0.698039215686274 0.698039215686274 0.698039215686274 1.0"/>
      </material>
    </visual>
    <visual name="Connector_Torso/Head_Visual">
      <origin xyz="0.0 1e-06 0.401" rpy="1.5708 -1.570793 1.570796"/>
      <geometry>
        <mesh filename="../meshes/Connector_Torso_Head.stl"/>
      </geometry>
      <material name="">
        <color rgba="0.69804 0.69804 0.69804 1.0"/>
      </material>
    </visual>
    <visual name="Connector_Torso/ArmRight_Visual">
      <origin xyz="-0.025162 -0.126089 0.35059" rpy="6e-05 -0.236287 -1.308995"/>
      <geometry>
        <mesh filename="../meshes/Connector_Torso_ArmRight.stl"/>
      </geometry>
      <material name="">
        <color rgba="0.69804 0.69804 0.69804 1.0"/>
      </material>
    </visual>
    <visual name="Connector_Torso/ArmLeft_Visual">
      <origin xyz="-0.025162 0.126091 0.35059" rpy="-6.2e-05 -0.23628 1.309002"/>
      <geometry>
        <mesh filename="../meshes/Connector_Torso_ArmLeft.stl"/>
      </geometry>
      <material name="">
        <color rgba="0.69804 0.69804 0.69804 1.0"/>
      </material>
    </visual>
    <visual name="Connector_Torso/Backpack_Visual">
      <origin xyz="-0.139 0.135001 0.354" rpy="3e-06 3e-06 -3.14159"/>
      <geometry>
        <mesh filename="../meshes/Connector_Torso_Backpack.stl"/>
      </geometry>
      <material name="">
        <color rgba="0.20784 0.30196 0.45098 1.0"/>
      </material>
    </visual>
    <collision name="BodyYaw_Link_Collision">
      <origin xyz="-0.018419 0.000138 0.230134" rpy="3.141579 2.5e-05 -3.138991"/>
      <geometry>
        <box size="0.33725703214490355 0.3435884670403737 0.3792761784425199"/>
      </geometry>
    </collision>
  </link>
  <joint name="CameraHeadLeftEye" type="fixed">
    <origin xyz="0.02 0 0" rpy="0 0 0"/>
    <parent link="Stereo_Camera_Head_Link"/>
    <child link="CameraHeadLeftEye_Link"/>
  </joint>
  <link name="CameraHeadLeftEye_Link"/>
  <joint name="CameraTorso" type="fixed">
    <origin xyz="0 0 0" rpy="3.1415926535 1.5707 0"/>
    <parent link="Structure_Sensor_Link"/>
    <child link="CameraTorso_Link"/>
  </joint>
  <link name="CameraTorso_Link"/>
  <joint name="GLF1Gear" type="revolute">
    <origin xyz="0.0 0.0 0.053" rpy="1.2885 0.0 0.0"/>
    <axis xyz="1.0 0.0 0.0"/>
    <parent link="GLF1ProximalSegment_Link"/>
    <child link="GLF1Gear_Link"/>
    <limit effort="400.0" lower="-3.1415926" upper="3.1415926" velocity="3.1415926"/>
    <mimic joint="GLF1ProximalSegment" multiplier="-1.0" offset="0.0"/>
  </joint>
  <link name="GLF1Gear_Link">
    <inertial>
      <origin xyz="0.00042134 0.00032509 0.0086803" rpy="0.0 0.0 0.0"/>
      <mass value="0.024785"/>
      <inertia ixx="1.1031768852531896e-05" ixy="-3.314199999999995e-09" ixz="-1.3220000000000009e-08" iyy="1.04518688525319e-05" iyz="-1.0513000000000047e-07" izz="1.0024648852531899e-05"/>
    </inertial>
    <visual name="GLF1Gear_Visual">
      <origin xyz="0.0 0.0 0.0" rpy="0.0 0.0 0.0"/>
      <geometry>
        <mesh filename="../meshes/F_Gear_Frame.stl"/>
      </geometry>
      <material name="">
        <color rgba="0.94118 0.67451 0.11765 1.0"/>
      </material>
    </visual>
  </link>
  <joint name="GLF1ProximalSegment" type="revolute">
    <origin xyz="-0.031453 -0.028781 0.079387" rpy="0.6664 0.1664 -1.533593"/>
    <axis xyz="1.0 0.0 0.0"/>
    <parent link="ALWristFT_Link"/>
    <child link="GLF1ProximalSegment_Link"/>
    <limit effort="400.0" lower="-0.62" upper="0.75" velocity="3.1415926"/>
  </joint>
  <link name="GLF1ProximalSegment_Link">
    <inertial>
      <origin xyz="-0.0020803 0.000387 0.0216" rpy="0.0 0.0 0.0"/>
      <mass value="0.05430300023956908"/>
      <inertia ixx="3.088548027794202e-05" ixy="-1.4302000000000137e-08" ixz="-2.683200000000028e-07" iyy="3.374948027794203e-05" iyz="6.182299999999967e-07" izz="2.0034380277942035e-05"/>
    </inertial>
    <visual name="GLF1ProximalSegment_Visual">
      <origin xyz="0.0 0.0 0.0" rpy="0.0 0.0 0.0"/>
      <geometry>
        <mesh filename="../meshes/F_ProximalSegment_Frame.stl"/>
      </geometry>
      <material name="">
        <color rgba="0.94118 0.67451 0.11765 1.0"/>
      </material>
    </visual>
    <collision name="GLF1ProximalSegment_Collision">
      <origin xyz="0.00013 -0.002054 0.02649" rpy="0.000111 0.075418 -1.569794"/>
      <geometry>
        <box size="0.030218173173127905 0.034882865322953094 0.0747403673565936"/>
      </geometry>
    </collision>
  </link>
  <joint name="GLF1TopSegment" type="revolute">
    <origin xyz="0.0 0.0 0.0" rpy="0.0 0.0 0.0"/>
    <axis xyz="1.0 0.0 0.0"/>
    <parent link="GLF1Gear_Link"/>
    <child link="GLF1TopSegment_Link"/>
    <limit effort="400.0" lower="0.0" upper="2.1" velocity="3.1415926"/>
  </joint>
  <link name="GLF1TopSegment_Link">
    <inertial>
      <origin xyz="0.00093543 0.026024 -0.013282" rpy="0.0 0.0 0.0"/>
      <mass value="0.0495890242167781"/>
      <inertia ixx="5.1651277429850974e-05" ixy="4.4296000000000057e-07" ixz="-6.034000000000103e-08" iyy="5.0300577429850974e-05" iyz="7.458099999999999e-07" izz="5.3196877429850975e-05"/>
    </inertial>
    <visual name="GLF1TopSegment_Visual">
      <origin xyz="0.0 0.0 0.0" rpy="0.0 0.0 0.0"/>
      <geometry>
        <mesh filename="../meshes/F_TopSegment_Frame.stl"/>
      </geometry>
      <material name="">
        <color rgba="0.94118 0.67451 0.11765 1.0"/>
      </material>
    </visual>
    <collision name="GLF1TopSegment_Collision">
      <origin xyz="-6.6e-05 0.02387 -0.012657" rpy="3.025162 1.145167 -1.622776"/>
      <geometry>
        <box size="0.026310870976772916 0.02858935493300371 0.07745781389552309"/>
      </geometry>
    </collision>
  </link>
  <joint name="GLF2Gear" type="revolute">
    <origin xyz="0.0 0.0 0.053" rpy="1.2885 0.0 0.0"/>
    <axis xyz="1.0 0.0 0.0"/>
    <parent link="GLF2ProximalSegment_Link"/>
    <child link="GLF2Gear_Link"/>
    <limit effort="400.0" lower="-3.1415926" upper="3.1415926" velocity="3.1415926"/>
    <mimic joint="GLF2ProximalSegment" multiplier="-1.0" offset="0.0"/>
  </joint>
  <link name="GLF2Gear_Link">
    <inertial>
      <origin xyz="0.00042134 0.00032509 0.0086803" rpy="0.0 0.0 0.0"/>
      <mass value="0.024785"/>
      <inertia ixx="1.1031768852531896e-05" ixy="-3.314199999999995e-09" ixz="-1.3220000000000009e-08" iyy="1.04518688525319e-05" iyz="-1.0513000000000047e-07" izz="1.0024648852531899e-05"/>
    </inertial>
    <visual name="GLF2Gear_Visual">
      <origin xyz="0.0 0.0 0.0" rpy="0.0 0.0 0.0"/>
      <geometry>
        <mesh filename="../meshes/F_Gear_Frame.stl"/>
      </geometry>
      <material name="">
        <color rgba="0.94118 0.67451 0.11765 1.0"/>
      </material>
    </visual>
  </link>
  <joint name="GLF2ProximalSegment" type="revolute">
    <origin xyz="-0.031632 0.027073 0.080199" rpy="0.665 -0.12478 -1.598593"/>
    <axis xyz="1.0 0.0 0.0"/>
    <parent link="ALWristFT_Link"/>
    <child link="GLF2ProximalSegment_Link"/>
    <limit effort="400.0" lower="-0.62" upper="0.75" velocity="3.1415926"/>
  </joint>
  <link name="GLF2ProximalSegment_Link">
    <inertial>
      <origin xyz="-0.0020803 0.000387 0.0216" rpy="0.0 0.0 0.0"/>
      <mass value="0.05430300023956908"/>
      <inertia ixx="3.088548027794202e-05" ixy="-1.4302000000000137e-08" ixz="-2.683200000000028e-07" iyy="3.374948027794203e-05" iyz="6.182299999999967e-07" izz="2.0034380277942035e-05"/>
    </inertial>
    <visual name="GLF2ProximalSegment_Visual">
      <origin xyz="0.0 0.0 0.0" rpy="0.0 0.0 0.0"/>
      <geometry>
        <mesh filename="../meshes/F_ProximalSegment_Frame.stl"/>
      </geometry>
      <material name="">
        <color rgba="0.94118 0.67451 0.11765 1.0"/>
      </material>
    </visual>
    <collision name="GLF2ProximalSegment_Collision">
      <origin xyz="0.00013 -0.002054 0.02649" rpy="0.000111 0.075418 -1.569794"/>
      <geometry>
        <box size="0.030218173173127905 0.034882865322953094 0.0747403673565936"/>
      </geometry>
    </collision>
  </link>
  <joint name="GLF2TopSegment" type="revolute">
    <origin xyz="0.0 0.0 0.0" rpy="0.0 0.0 0.0"/>
    <axis xyz="1.0 0.0 0.0"/>
    <parent link="GLF2Gear_Link"/>
    <child link="GLF2TopSegment_Link"/>
    <limit effort="400.0" lower="0.0" upper="2.1" velocity="3.1415926"/>
  </joint>
  <link name="GLF2TopSegment_Link">
    <inertial>
      <origin xyz="0.00093543 0.026024 -0.013282" rpy="0.0 0.0 0.0"/>
      <mass value="0.0495890242167781"/>
      <inertia ixx="5.1651277429850974e-05" ixy="4.4296000000000057e-07" ixz="-6.034000000000103e-08" iyy="5.0300577429850974e-05" iyz="7.458099999999999e-07" izz="5.3196877429850975e-05"/>
    </inertial>
    <visual name="GLF2TopSegment_Visual">
      <origin xyz="0.0 0.0 0.0" rpy="0.0 0.0 0.0"/>
      <geometry>
        <mesh filename="../meshes/F_TopSegment_Frame.stl"/>
      </geometry>
      <material name="">
        <color rgba="0.94118 0.67451 0.11765 1.0"/>
      </material>
    </visual>
    <collision name="GLF2TopSegment_Collision">
      <origin xyz="-6.6e-05 0.02387 -0.012657" rpy="3.025162 1.145167 -1.622776"/>
      <geometry>
        <box size="0.026310870976772916 0.02858935493300371 0.07745781389552309"/>
      </geometry>
    </collision>
  </link>
  <joint name="GLF3Gear" type="revolute">
    <origin xyz="0.0 0.0 0.053" rpy="1.2885 0.0 0.0"/>
    <axis xyz="1.0 0.0 0.0"/>
    <parent link="GLF3ProximalSegment_Link"/>
    <child link="GLF3Gear_Link"/>
    <limit effort="400.0" lower="-3.1415926" upper="3.1415926" velocity="3.1415926"/>
    <mimic joint="GLF3ProximalSegment" multiplier="-1.0" offset="0.0"/>
  </joint>
  <link name="GLF3Gear_Link">
    <inertial>
      <origin xyz="0.00042134 0.00032509 0.0086803" rpy="0.0 0.0 0.0"/>
      <mass value="0.024785"/>
      <inertia ixx="1.1031768852531896e-05" ixy="-3.314199999999995e-09" ixz="-1.3220000000000009e-08" iyy="1.04518688525319e-05" iyz="-1.0513000000000047e-07" izz="1.0024648852531899e-05"/>
    </inertial>
    <visual name="GLF3Gear_Visual">
      <origin xyz="0.0 0.0 0.0" rpy="0.0 0.0 0.0"/>
      <geometry>
        <mesh filename="../meshes/F_Gear_Frame.stl"/>
      </geometry>
      <material name="">
        <color rgba="0.94118 0.67451 0.11765 1.0"/>
      </material>
    </visual>
  </link>
  <joint name="GLF3ProximalSegment" type="revolute">
    <origin xyz="-0.030665 0.061788 0.075843" rpy="0.665 -0.124785 -1.598609"/>
    <axis xyz="1.0 0.0 0.0"/>
    <parent link="ALWristFT_Link"/>
    <child link="GLF3ProximalSegment_Link"/>
    <limit effort="400.0" lower="-0.62" upper="0.75" velocity="3.1415926"/>
  </joint>
  <link name="GLF3ProximalSegment_Link">
    <inertial>
      <origin xyz="-0.0020803 0.000387 0.0216" rpy="0.0 0.0 0.0"/>
      <mass value="0.05430300023956908"/>
      <inertia ixx="3.088548027794202e-05" ixy="-1.4302000000000137e-08" ixz="-2.683200000000028e-07" iyy="3.374948027794203e-05" iyz="6.182299999999967e-07" izz="2.0034380277942035e-05"/>
    </inertial>
    <visual name="GLF3ProximalSegment_Visual">
      <origin xyz="0.0 0.0 0.0" rpy="0.0 0.0 0.0"/>
      <geometry>
        <mesh filename="../meshes/F_ProximalSegment_Frame.stl"/>
      </geometry>
      <material name="">
        <color rgba="0.94118 0.67451 0.11765 1.0"/>
      </material>
    </visual>
    <collision name="GLF3ProximalSegment_Collision">
      <origin xyz="0.00013 -0.002054 0.02649" rpy="0.000111 0.075418 -1.569794"/>
      <geometry>
        <box size="0.030218173173127905 0.034882865322953094 0.0747403673565936"/>
      </geometry>
    </collision>
  </link>
  <joint name="GLF3TopSegment" type="revolute">
    <origin xyz="0.0 0.0 0.0" rpy="0.0 0.0 0.0"/>
    <axis xyz="1.0 0.0 0.0"/>
    <parent link="GLF3Gear_Link"/>
    <child link="GLF3TopSegment_Link"/>
    <limit effort="400.0" lower="0.0" upper="2.1" velocity="3.1415926"/>
  </joint>
  <link name="GLF3TopSegment_Link">
    <inertial>
      <origin xyz="0.00093543 0.026024 -0.013282" rpy="0.0 0.0 0.0"/>
      <mass value="0.0495890242167781"/>
      <inertia ixx="5.1651277429850974e-05" ixy="4.4296000000000057e-07" ixz="-6.034000000000103e-08" iyy="5.0300577429850974e-05" iyz="7.458099999999999e-07" izz="5.3196877429850975e-05"/>
    </inertial>
    <visual name="GLF3TopSegment_Visual">
      <origin xyz="0.0 0.0 0.0" rpy="0.0 0.0 0.0"/>
      <geometry>
        <mesh filename="../meshes/F_TopSegment_Frame.stl"/>
      </geometry>
      <material name="">
        <color rgba="0.94118 0.67451 0.11765 1.0"/>
      </material>
    </visual>
    <collision name="GLF3TopSegment_Collision">
      <origin xyz="-6.6e-05 0.02387 -0.012657" rpy="3.025162 1.145167 -1.622776"/>
      <geometry>
        <box size="0.026310870976772916 0.02858935493300371 0.07745781389552309"/>
      </geometry>
    </collision>
  </link>
  <joint name="GLF4Gear" type="revolute">
    <origin xyz="0.0 0.0 0.053" rpy="1.2885 0.0 0.0"/>
    <axis xyz="1.0 0.0 0.0"/>
    <parent link="GLF4ProximalSegment_Link"/>
    <child link="GLF4Gear_Link"/>
    <limit effort="400.0" lower="-3.1415926" upper="3.1415926" velocity="3.1415926"/>
    <mimic joint="GLF4ProximalSegment" multiplier="-1.0" offset="0.0"/>
  </joint>
  <link name="GLF4Gear_Link">
    <inertial>
      <origin xyz="0.00042134 0.00032509 0.0086803" rpy="0.0 0.0 0.0"/>
      <mass value="0.024785"/>
      <inertia ixx="1.1031768852531896e-05" ixy="-3.314199999999995e-09" ixz="-1.3220000000000009e-08" iyy="1.04518688525319e-05" iyz="-1.0513000000000047e-07" izz="1.0024648852531899e-05"/>
    </inertial>
    <visual name="GLF4Gear_Visual">
      <origin xyz="0.0 0.0 0.0" rpy="0.0 0.0 0.0"/>
      <geometry>
        <mesh filename="../meshes/F_Gear_Frame.stl"/>
      </geometry>
      <material name="">
        <color rgba="0.94118 0.67451 0.11765 1.0"/>
      </material>
    </visual>
  </link>
  <joint name="GLF4ProximalSegment" type="revolute">
    <origin xyz="-0.029562 5e-05 0.04035" rpy="0.6633 0.0 -1.570801"/>
    <axis xyz="1.0 0.0 0.0"/>
    <parent link="GLThumb_Link"/>
    <child link="GLF4ProximalSegment_Link"/>
    <limit effort="400.0" lower="-0.62" upper="0.75" velocity="3.1415926"/>
  </joint>
  <link name="GLF4ProximalSegment_Link">
    <inertial>
      <origin xyz="-0.0020803 0.000387 0.0216" rpy="0.0 0.0 0.0"/>
      <mass value="0.05430300023956908"/>
      <inertia ixx="3.088548027794202e-05" ixy="-1.4302000000000137e-08" ixz="-2.683200000000028e-07" iyy="3.374948027794203e-05" iyz="6.182299999999967e-07" izz="2.0034380277942035e-05"/>
    </inertial>
    <visual name="GLF4ProximalSegment_Visual">
      <origin xyz="0.0 0.0 0.0" rpy="0.0 0.0 0.0"/>
      <geometry>
        <mesh filename="../meshes/F_ProximalSegment_Frame.stl"/>
      </geometry>
      <material name="">
        <color rgba="0.94118 0.67451 0.11765 1.0"/>
      </material>
    </visual>
    <collision name="GLF4ProximalSegment_Collision">
      <origin xyz="0.00013 -0.002054 0.02649" rpy="0.000111 0.075418 -1.569794"/>
      <geometry>
        <box size="0.030218173173127905 0.034882865322953094 0.0747403673565936"/>
      </geometry>
    </collision>
  </link>
  <joint name="GLF4TopSegment" type="revolute">
    <origin xyz="0.0 0.0 0.0" rpy="0.0 0.0 0.0"/>
    <axis xyz="1.0 0.0 0.0"/>
    <parent link="GLF4Gear_Link"/>
    <child link="GLF4TopSegment_Link"/>
    <limit effort="400.0" lower="0.0" upper="2.1" velocity="3.1415926"/>
  </joint>
  <link name="GLF4TopSegment_Link">
    <inertial>
      <origin xyz="0.00093543 0.026024 -0.013282" rpy="0.0 0.0 0.0"/>
      <mass value="0.0495890242167781"/>
      <inertia ixx="5.1651277429850974e-05" ixy="4.4296000000000057e-07" ixz="-6.034000000000103e-08" iyy="5.0300577429850974e-05" iyz="7.458099999999999e-07" izz="5.3196877429850975e-05"/>
    </inertial>
    <visual name="GLF4TopSegment_Visual">
      <origin xyz="0.0 0.0 0.0" rpy="0.0 0.0 0.0"/>
      <geometry>
        <mesh filename="../meshes/F_TopSegment_Frame.stl"/>
      </geometry>
      <material name="">
        <color rgba="0.94118 0.67451 0.11765 1.0"/>
      </material>
    </visual>
    <collision name="GLF4TopSegment_Collision">
      <origin xyz="-6.6e-05 0.02387 -0.012657" rpy="3.025162 1.145167 -1.622776"/>
      <geometry>
        <box size="0.026310870976772916 0.02858935493300371 0.07745781389552309"/>
      </geometry>
    </collision>
  </link>
  <joint name="GLIMU" type="fixed">
    <origin xyz="-0.003256 0.00202 0.053849" rpy="0.0 1.3526 0.0"/>
    <parent link="ALWristFT_Link"/>
    <child link="GLIMU_Link"/>
  </joint>
  <link name="GLIMU_Link">
    <inertial>
      <origin xyz="0.0 -0.0 0.0" rpy="0.0 0.0 0.0"/>
      <mass value="1e-05"/>
      <inertia ixx="1e-05" ixy="0.0" ixz="0.0" iyy="1e-05" iyz="0.0" izz="1e-05"/>
    </inertial>
  </link>
  <joint name="GLThumb" type="revolute">
    <origin xyz="0.019161 -0.002327 0.042" rpy="0.0 0.0 -3.141592"/>
    <axis xyz="1.0 0.0 0.0"/>
    <parent link="ALWristFT_Link"/>
    <child link="GLThumb_Link"/>
    <limit effort="400.0" lower="-0.261" upper="1.309" velocity="3.1415926"/>
  </joint>
  <link name="GLThumb_Link">
    <inertial>
      <origin xyz="-0.013372 -1.5e-05 0.005722" rpy="0.0 0.0 0.0"/>
      <mass value="0.3647560552636292"/>
      <inertia ixx="0.00017196947154162604" ixy="-1.2849830058509908e-06" ixz="-6.455817419732357e-07" iyy="0.00015617393364816254" iyz="-1.2623201197509347e-06" izz="0.000152835229404215"/>
    </inertial>
    <visual name="GLThumb_Visual">
      <origin xyz="0.0 -0.0 0.0" rpy="0.0 0.0 3.141593"/>
      <geometry>
        <mesh filename="../meshes/GL_Thumb.stl" scale="1.0 1.0 1.0"/>
      </geometry>
      <material name="">
        <color rgba="0.94118 0.67451 0.11765 1.0"/>
      </material>
    </visual>
    <visual name="GLF4Base_Visual">
      <origin xyz="-0.011996 -0.013 0.028112" rpy="1.789 0.0 -1.570801"/>
      <geometry>
        <mesh filename="../meshes/Finger_Base_Frame.stl"/>
      </geometry>
      <material name="">
        <color rgba="0.79216 0.81961 0.93333 1.0"/>
      </material>
    </visual>
    <visual name="GLF4ProximalBar_Visual">
      <origin xyz="-0.051562 5e-05 0.040349" rpy="0.6752 0.0 -1.570801"/>
      <geometry>
        <mesh filename="../meshes/F_ProximalBar_Frame.stl"/>
      </geometry>
      <material name="">
        <color rgba="0.94118 0.67451 0.11765 1.0"/>
      </material>
    </visual>
    <collision name="GLThumb_Link_Collision">
      <origin xyz="0.0 0.0 0.0" rpy="0.0 0.0 0.0"/>
      <geometry>
        <mesh filename="../meshes/GLThumb_Link_abstract-urdf_joined_convexhull_convexhull.stl" scale="1.0 1.0 1.0"/>
      </geometry>
    </collision>
  </link>
  <joint name="GRF1Gear" type="revolute">
    <origin xyz="0.0 0.0 0.053" rpy="1.2885 0.0 0.0"/>
    <axis xyz="1.0 0.0 0.0"/>
    <parent link="GRF1ProximalSegment_Link"/>
    <child link="GRF1Gear_Link"/>
    <limit effort="400.0" lower="-3.1415926" upper="3.1415926" velocity="3.1415926"/>
    <mimic joint="GRF1ProximalSegment" multiplier="-1.0" offset="0.0"/>
  </joint>
  <link name="GRF1Gear_Link">
    <inertial>
      <origin xyz="0.00042134 0.00032509 0.0086803" rpy="0.0 0.0 0.0"/>
      <mass value="0.024785"/>
      <inertia ixx="1.1031768852531896e-05" ixy="-3.314199999999995e-09" ixz="-1.3220000000000009e-08" iyy="1.04518688525319e-05" iyz="-1.0513000000000047e-07" izz="1.0024648852531899e-05"/>
    </inertial>
    <visual name="GRF1Gear_Visual">
      <origin xyz="0.0 0.0 0.0" rpy="0.0 0.0 0.0"/>
      <geometry>
        <mesh filename="../meshes/F_Gear_Frame.stl"/>
      </geometry>
      <material name="">
        <color rgba="0.94118 0.67451 0.11765 1.0"/>
      </material>
    </visual>
  </link>
  <joint name="GRF1ProximalSegment" type="revolute">
    <origin xyz="0.039291 -4.9e-05 0.077141" rpy="0.6633 0.0 1.570793"/>
    <axis xyz="1.0 0.0 0.0"/>
    <parent link="ARWristFT_Link"/>
    <child link="GRF1ProximalSegment_Link"/>
    <limit effort="400.0" lower="-0.62" upper="0.75" velocity="3.1415926"/>
  </joint>
  <link name="GRF1ProximalSegment_Link">
    <inertial>
      <origin xyz="-0.0020803 0.000387 0.0216" rpy="0.0 0.0 0.0"/>
      <mass value="0.05430300023956908"/>
      <inertia ixx="3.088548027794202e-05" ixy="-1.4302000000000137e-08" ixz="-2.683200000000028e-07" iyy="3.374948027794203e-05" iyz="6.182299999999967e-07" izz="2.0034380277942035e-05"/>
    </inertial>
    <visual name="GRF1ProximalSegment_Visual">
      <origin xyz="0.0 0.0 0.0" rpy="0.0 0.0 0.0"/>
      <geometry>
        <mesh filename="../meshes/F_ProximalSegment_Frame.stl"/>
      </geometry>
      <material name="">
        <color rgba="0.94118 0.67451 0.11765 1.0"/>
      </material>
    </visual>
    <collision name="GRF1ProximalSegment_Collision">
      <origin xyz="0.00013 -0.002054 0.02649" rpy="0.000111 0.075418 -1.569794"/>
      <geometry>
        <box size="0.030218173173127905 0.034882865322953094 0.0747403673565936"/>
      </geometry>
    </collision>
  </link>
  <joint name="GRF1TopSegment" type="revolute">
    <origin xyz="0.0 0.0 0.0" rpy="0.0 0.0 0.0"/>
    <axis xyz="1.0 0.0 0.0"/>
    <parent link="GRF1Gear_Link"/>
    <child link="GRF1TopSegment_Link"/>
    <limit effort="400.0" lower="0.0" upper="2.1" velocity="3.1415926"/>
  </joint>
  <link name="GRF1TopSegment_Link">
    <inertial>
      <origin xyz="0.00093543 0.026024 -0.013282" rpy="0.0 0.0 0.0"/>
      <mass value="0.0495890242167781"/>
      <inertia ixx="5.1651277429850974e-05" ixy="4.4296000000000057e-07" ixz="-6.034000000000103e-08" iyy="5.0300577429850974e-05" iyz="7.458099999999999e-07" izz="5.3196877429850975e-05"/>
    </inertial>
    <visual name="GRF1TopSegment_Visual">
      <origin xyz="0.0 0.0 0.0" rpy="0.0 0.0 0.0"/>
      <geometry>
        <mesh filename="../meshes/F_TopSegment_Frame.stl"/>
      </geometry>
      <material name="">
        <color rgba="0.94118 0.67451 0.11765 1.0"/>
      </material>
    </visual>
    <collision name="GRF1TopSegment_Collision">
      <origin xyz="-6.6e-05 0.02387 -0.012657" rpy="3.025162 1.145167 -1.622776"/>
      <geometry>
        <box size="0.026310870976772916 0.02858935493300371 0.07745781389552309"/>
      </geometry>
    </collision>
  </link>
  <joint name="GRF2Gear" type="revolute">
    <origin xyz="0.0 0.0 0.053" rpy="1.2885 0.0 0.0"/>
    <axis xyz="1.0 0.0 0.0"/>
    <parent link="GRF2ProximalSegment_Link"/>
    <child link="GRF2Gear_Link"/>
    <limit effort="400.0" lower="-3.1415926" upper="3.1415926" velocity="3.1415926"/>
    <mimic joint="GRF2ProximalSegment" multiplier="-1.0" offset="0.0"/>
  </joint>
  <link name="GRF2Gear_Link">
    <inertial>
      <origin xyz="0.00042134 0.00032509 0.0086803" rpy="0.0 0.0 0.0"/>
      <mass value="0.024785"/>
      <inertia ixx="1.1031768852531896e-05" ixy="-3.314199999999995e-09" ixz="-1.3220000000000009e-08" iyy="1.04518688525319e-05" iyz="-1.0513000000000047e-07" izz="1.0024648852531899e-05"/>
    </inertial>
    <visual name="GRF2Gear_Visual">
      <origin xyz="0.0 0.0 0.0" rpy="0.0 0.0 0.0"/>
      <geometry>
        <mesh filename="../meshes/F_Gear_Frame.stl"/>
      </geometry>
      <material name="">
        <color rgba="0.94118 0.67451 0.11765 1.0"/>
      </material>
    </visual>
  </link>
  <joint name="GRF2ProximalSegment" type="revolute">
    <origin xyz="-0.039316 5.4e-05 0.077141" rpy="0.6633 0.0 -1.570793"/>
    <axis xyz="1.0 0.0 0.0"/>
    <parent link="ARWristFT_Link"/>
    <child link="GRF2ProximalSegment_Link"/>
    <limit effort="400.0" lower="-0.62" upper="0.75" velocity="3.1415926"/>
  </joint>
  <link name="GRF2ProximalSegment_Link">
    <inertial>
      <origin xyz="-0.0020803 0.000387 0.0216" rpy="0.0 0.0 0.0"/>
      <mass value="0.05430300023956908"/>
      <inertia ixx="3.088548027794202e-05" ixy="-1.4302000000000137e-08" ixz="-2.683200000000028e-07" iyy="3.374948027794203e-05" iyz="6.182299999999967e-07" izz="2.0034380277942035e-05"/>
    </inertial>
    <visual name="GRF2ProximalSegment_Visual">
      <origin xyz="0.0 0.0 0.0" rpy="0.0 0.0 0.0"/>
      <geometry>
        <mesh filename="../meshes/F_ProximalSegment_Frame.stl"/>
      </geometry>
      <material name="">
        <color rgba="0.94118 0.67451 0.11765 1.0"/>
      </material>
    </visual>
    <collision name="GRF2ProximalSegment_Collision">
      <origin xyz="0.00013 -0.002054 0.02649" rpy="0.000111 0.075418 -1.569794"/>
      <geometry>
        <box size="0.030218173173127905 0.034882865322953094 0.0747403673565936"/>
      </geometry>
    </collision>
  </link>
  <joint name="GRF2TopSegment" type="revolute">
    <origin xyz="0.0 0.0 0.0" rpy="0.0 0.0 0.0"/>
    <axis xyz="1.0 0.0 0.0"/>
    <parent link="GRF2Gear_Link"/>
    <child link="GRF2TopSegment_Link"/>
    <limit effort="400.0" lower="0.0" upper="2.1" velocity="3.1415926"/>
  </joint>
  <link name="GRF2TopSegment_Link">
    <inertial>
      <origin xyz="0.00093543 0.026024 -0.013282" rpy="0.0 0.0 0.0"/>
      <mass value="0.0495890242167781"/>
      <inertia ixx="5.1651277429850974e-05" ixy="4.4296000000000057e-07" ixz="-6.034000000000103e-08" iyy="5.0300577429850974e-05" iyz="7.458099999999999e-07" izz="5.3196877429850975e-05"/>
    </inertial>
    <visual name="GRF2TopSegment_Visual">
      <origin xyz="0.0 0.0 0.0" rpy="0.0 0.0 0.0"/>
      <geometry>
        <mesh filename="../meshes/F_TopSegment_Frame.stl"/>
      </geometry>
      <material name="">
        <color rgba="0.94118 0.67451 0.11765 1.0"/>
      </material>
    </visual>
    <collision name="GRF2TopSegment_Collision">
      <origin xyz="-6.6e-05 0.02387 -0.012657" rpy="3.025162 1.145167 -1.622776"/>
      <geometry>
        <box size="0.026310870976772916 0.02858935493300371 0.07745781389552309"/>
      </geometry>
    </collision>
  </link>
  <joint name="GRIMU" type="fixed">
    <origin xyz="0.001862 -0.026119 0.056625" rpy="-1.5708 -0.009708 3.141593"/>
    <parent link="ARWristFT_Link"/>
    <child link="GRIMU_Link"/>
  </joint>
  <link name="GRIMU_Link">
    <inertial>
      <origin xyz="0.0 0.0 0.0" rpy="0.0 0.0 0.0"/>
      <mass value="1e-05"/>
      <inertia ixx="1e-05" ixy="0.0" ixz="0.0" iyy="1e-05" iyz="0.0" izz="1e-05"/>
    </inertial>
  </link>
  <joint name="HeadBase" type="fixed">
    <origin xyz="0.0 1e-06 0.401" rpy="1.5708 -1.570793 1.570796"/>
    <parent link="BodyYaw_Link"/>
    <child link="HeadBase_Link"/>
  </joint>
  <link name="HeadBase_Link">
    <inertial>
      <origin xyz="0.074228 -3.6471e-05 -0.00062034" rpy="0.0 0.0 0.0"/>
      <mass value="1.4419927445902858"/>
      <inertia ixx="0.0017389000000001366" ixy="4.2630741945996366e-08" ixz="5.259800013686076e-08" iyy="0.001487789459964334" iyz="7.06191772690594e-07" izz="0.0013696378900355294"/>
    </inertial>
    <visual name="HeadBase_Visual">
      <origin xyz="0.0 0.0 0.0" rpy="0.0 0.0 0.0"/>
      <geometry>
        <mesh filename="../meshes/Head_Base.stl"/>
      </geometry>
      <material name="">
        <color rgba="0.69804 0.69804 0.69804 1.0"/>
      </material>
    </visual>
    <visual name="HeadActC_Visual">
      <origin xyz="0.15925 0.0 0.0" rpy="-1.5708 0.0 0.0"/>
      <geometry>
        <mesh filename="../meshes/Head_ActC.stl"/>
      </geometry>
      <material name="">
        <color rgba="0.89804 0.91765 0.92941 1.0"/>
      </material>
    </visual>
    <visual name="HeadActL_Visual">
      <origin xyz="0.15925 0.0 0.0" rpy="-3.141585 0.0 1.5708"/>
      <geometry>
        <mesh filename="../meshes/Head_ActL.stl"/>
      </geometry>
      <material name="">
        <color rgba="0.69804 0.69804 0.69804 1.0"/>
      </material>
    </visual>
    <visual name="HeadActR_Visual">
      <origin xyz="0.15925 0.0 0.0" rpy="0.0 0.0 -1.5708"/>
      <geometry>
        <mesh filename="../meshes/Head_ActR.stl"/>
      </geometry>
      <material name="">
        <color rgba="0.69804 0.69804 0.69804 1.0"/>
      </material>
    </visual>
    <collision name="HeadBase_Link_Collision">
      <origin xyz="0.089282 0.003564 -0.023422" rpy="1.489582 -0.057445 1.569603"/>
      <geometry>
        <box size="0.15116204744210632 0.15949007075757243 0.18968096600451853"/>
      </geometry>
    </collision>
  </link>
  <joint name="HeadPitch" type="revolute">
    <origin xyz="0.15925 0.0 0.0" rpy="0.0 0.0 -1.5708"/>
    <axis xyz="1.0 0.0 0.0"/>
    <parent link="HeadBase_Link"/>
    <child link="HeadPitch_Link"/>
    <limit effort="400.0" lower="-0.3" upper="0.35" velocity="3.1415926"/>
  </joint>
  <link name="HeadPitch_Link">
    <inertial>
      <origin xyz="3.73800046473431e-08 -4.45791975556276e-09 0.00296950883117566" rpy="0.0 0.0 0.0"/>
      <mass value="0.0135306815484183"/>
      <inertia ixx="1.0900469792997046e-05" ixy="-1.983276674419689e-12" ixz="2.9229038977620623e-12" iyy="1.1777940400612256e-05" iyz="-1.006944634337718e-13" izz="1.0000000000009494e-05"/>
    </inertial>
    <visual name="HeadPitch_Visual">
      <origin xyz="0.0 0.0 0.0" rpy="0.0 0.0 0.0"/>
      <geometry>
        <mesh filename="../meshes/HeadPitch.stl"/>
      </geometry>
      <material name="">
        <color rgba="0.898039215686275 0.917647058823529 0.929411764705882 1.0"/>
      </material>
    </visual>
  </link>
  <joint name="HeadRoll" type="revolute">
    <origin xyz="0.0 0.0 0.0" rpy="-1.5708 -1.5708 0.0"/>
    <axis xyz="-1.0 0.0 0.0"/>
    <parent link="HeadPitch_Link"/>
    <child link="HeadRoll_Link"/>
    <limit effort="400.0" lower="-0.45" upper="0.007853981633974483" velocity="3.1415926"/>
  </joint>
  <link name="HeadRoll_Link">
    <inertial>
      <origin xyz="-0.00844253878850604 -4.18737776903302e-08 0.00884603238325907" rpy="0.0 0.0 0.0"/>
      <mass value="0.109788715391496"/>
      <inertia ixx="1.83994177455821e-05" ixy="5.13405597754959e-11" ixz="-1.07875589146075e-08" iyy="1.359548687449e-05" iyz="-9.3011670884998e-10" izz="1.39946184243742e-05"/>
    </inertial>
    <visual name="HeadRoll_Visual">
      <origin xyz="0.0 0.0 0.0" rpy="0.0 0.0 0.0"/>
      <geometry>
        <mesh filename="../meshes/HeadRoll.stl"/>
      </geometry>
      <material name="">
        <color rgba="0.898039215686275 0.917647058823529 0.929411764705882 1.0"/>
      </material>
    </visual>
  </link>
  <joint name="HeadYaw" type="revolute">
    <origin xyz="0.0 0.0 0.0" rpy="1.5708 -1.5708 0.0"/>
    <axis xyz="1.0 0.0 0.0"/>
    <parent link="HeadRoll_Link"/>
    <child link="HeadYaw_Link"/>
    <limit effort="400.0" lower="-2.1" upper="2.1" velocity="3.1415926"/>
  </joint>
  <link name="HeadYaw_Link">
    <inertial>
      <origin xyz="0.0865202750448954 -0.0440420348532486 -0.00282280741895916" rpy="0.0 0.0 0.0"/>
      <mass value="1.46451930762968"/>
      <inertia ixx="0.00400957562211491" ixy="-0.000773636855316844" ixz="-8.24762860917018e-06" iyy="0.00399135489001388" iyz="-9.04346097850664e-06" izz="0.00411109150468807"/>
    </inertial>
    <visual name="HeadYaw_Visual">
      <origin xyz="0.0 0.0 0.0" rpy="0.0 0.0 0.0"/>
      <geometry>
        <mesh filename="../meshes/HeadYaw.stl"/>
      </geometry>
      <material name="">
        <color rgba="0.498039215686275 0.498039215686275 0.498039215686275 1.0"/>
      </material>
    </visual>
    <collision name="HeadYaw_Collision">
      <origin xyz="0.071982 -0.056676 -3e-06" rpy="1.570773 -5.3e-05 2.757791"/>
      <geometry>
        <box size="0.20200141506883382 0.2099636317811051 0.2599446678014104"/>
      </geometry>
    </collision>
  </link>
  <joint name="IMU_Body" type="fixed">
    <origin xyz="-0.005 -0.01745 -0.09195" rpy="-0.0 0.0 0.0"/>
    <parent link="RH5v2_Root_Link"/>
    <child link="IMU_Body_Link"/>
  </joint>
  <link name="IMU_Body_Link">
    <inertial>
      <origin xyz="0.020181 0.018941 0.0015699" rpy="0.0 0.0 0.0"/>
      <mass value="0.093167"/>
      <inertia ixx="1.4618e-05" ixy="-6.5521e-08" ixz="-5.6588e-08" iyy="2.4402e-05" iyz="6.4435e-09" izz="3.4276e-05"/>
    </inertial>
    <visual name="IMU_Body_Visual">
      <origin xyz="0.0 0.0 0.0" rpy="0.0 0.0 0.0"/>
      <geometry>
        <mesh filename="../meshes/IMU_Body.stl"/>
      </geometry>
      <material name="">
        <color rgba="0.69804 0.69804 0.69804 1.0"/>
      </material>
    </visual>
  </link>
  <joint name="IMU_Torso" type="fixed">
    <origin xyz="-0.0075 -0.10255 0.19985" rpy="3e-06 3e-06 -3.14159"/>
    <parent link="BodyYaw_Link"/>
    <child link="IMU_Torso_Link"/>
  </joint>
  <link name="IMU_Torso_Link">
    <inertial>
      <origin xyz="0.020181 0.018941 0.0015699" rpy="0.0 0.0 0.0"/>
      <mass value="0.093167"/>
      <inertia ixx="1.4618e-05" ixy="-6.5519e-08" ixz="-5.6587e-08" iyy="2.4402e-05" iyz="6.4433e-09" izz="3.4276e-05"/>
    </inertial>
    <visual name="IMU_Torso_Visual">
      <origin xyz="0.0 0.0 0.0" rpy="0.0 0.0 0.0"/>
      <geometry>
        <mesh filename="../meshes/IMU_Torso.stl"/>
      </geometry>
      <material name="">
        <color rgba="0.69804 0.69804 0.69804 1.0"/>
      </material>
    </visual>
  </link>
  <link name="RH5v2_Root_Link">
    <inertial>
      <origin xyz="0.004352 -2.1674e-05 -0.079131" rpy="0.0 0.0 0.0"/>
      <mass value="3.82935060069243"/>
      <inertia ixx="0.017563188359104042" ixy="-4.4381955433241843e-07" ixz="-0.0013381063336743548" iyy="0.011878434065959294" iyz="-5.316260446372552e-07" izz="0.017830324774936672"/>
    </inertial>
    <visual name="RH5v2_Root_Link_Visual">
      <origin xyz="0.0 0.0 0.0" rpy="0.0 0.0 0.0"/>
      <geometry>
        <mesh filename="../meshes/RH5v2_Root_Link.stl"/>
      </geometry>
      <material name="">
        <color rgba="0.89804 0.91765 0.92941 1.0"/>
      </material>
    </visual>
    <visual name="BodyRoot_Link_Visual">
      <origin xyz="0.0 0.0 0.016" rpy="0.0 0.0 -1.5708"/>
      <geometry>
        <mesh filename="../meshes/Body_Root_Link.stl"/>
      </geometry>
      <material name="">
        <color rgba="1.0 1.0 1.0 1.0"/>
      </material>
    </visual>
    <visual name="BodyBL1_Visual">
      <origin xyz="-0.089827 0.02 -0.194" rpy="0.24177 0.0 3.141585"/>
      <geometry>
        <mesh filename="../meshes/Body_BL1.stl"/>
      </geometry>
      <material name="">
        <color rgba="0.64706 0.61961 0.58824 1.0"/>
      </material>
    </visual>
    <visual name="BodyBL2_Visual">
      <origin xyz="-0.089827 0.02 -0.194" rpy="0.241782 0.010038 -3.139125"/>
      <geometry>
        <mesh filename="../meshes/Body_BL2.stl"/>
      </geometry>
      <material name="">
        <color rgba="0.61961 0.40784 0.2 1.0"/>
      </material>
    </visual>
    <visual name="BodyActL_Visual">
      <origin xyz="-0.092308 0.077456 0.038998" rpy="0.241782 0.010038 -3.139125"/>
      <geometry>
        <mesh filename="../meshes/Body_ActL.stl"/>
      </geometry>
      <material name="">
        <color rgba="0.69804 0.69804 0.69804 1.0"/>
      </material>
    </visual>
    <visual name="BodyBR1_Visual">
      <origin xyz="-0.089827 -0.02 -0.194" rpy="-0.24177 0.0 3.141585"/>
      <geometry>
        <mesh filename="../meshes/Body_BR1.stl"/>
      </geometry>
      <material name="">
        <color rgba="0.64706 0.61961 0.58824 1.0"/>
      </material>
    </visual>
    <visual name="BodyBR2_Visual">
      <origin xyz="-0.089827 -0.02 -0.194" rpy="-0.241782 0.010038 3.13911"/>
      <geometry>
        <mesh filename="../meshes/Body_BR2.stl"/>
      </geometry>
      <material name="">
        <color rgba="0.64706 0.61961 0.58824 1.0"/>
      </material>
    </visual>
    <visual name="BodyActR_Visual">
      <origin xyz="-0.092309 -0.077456 0.038998" rpy="-0.241782 0.010038 3.13911"/>
      <geometry>
        <mesh filename="../meshes/Body_ActR.stl"/>
      </geometry>
      <material name="">
        <color rgba="0.69804 0.69804 0.69804 1.0"/>
      </material>
    </visual>
    <collision name="RH5v2_Root_Link_Collision">
      <origin xyz="0.001756 0.00057 -0.056015" rpy="2.360723 0.001748 -3.14002"/>
      <geometry>
        <box size="0.2596174851391245 0.2646177129842246 0.2646929128032751"/>
      </geometry>
    </collision>
  </link>
  <joint name="Stereo_Camera_Head" type="fixed">
    <origin xyz="0.0689999999999992 -0.103499999999999 -0.0314985000000005" rpy="-1.5707963267949 0.0 -1.5707963267949"/>
    <parent link="HeadYaw_Link"/>
    <child link="Stereo_Camera_Head_Link"/>
  </joint>
  <link name="Stereo_Camera_Head_Link">
    <inertial>
      <origin xyz="0.0093017380297578 -0.0242892236376383 -2.56629836528632e-06" rpy="0.0 0.0 0.0"/>
      <mass value="0.163942749569653"/>
      <inertia ixx="0.000214569685214328" ixy="2.48189735161484e-06" ixz="-1.1783765192218e-09" iyy="1.54943903142391e-05" iyz="6.24843939247585e-10" izz="0.000213155596979443"/>
    </inertial>
    <visual name="Stereo_Camera_Head_Visual">
      <origin xyz="0.0 0.0 0.0" rpy="0.0 0.0 0.0"/>
      <geometry>
        <mesh filename="../meshes/Stereo_Camera_Head.stl"/>
      </geometry>
      <material name="">
        <color rgba="0.698039215686274 0.698039215686274 0.698039215686274 1.0"/>
      </material>
    </visual>
  </link>
  <joint name="Structure_Sensor" type="fixed">
    <origin xyz="0.12041 -0.038249 0.36839" rpy="-6e-06 1.221726 3.141584"/>
    <parent link="BodyYaw_Link"/>
    <child link="Structure_Sensor_Link"/>
  </joint>
  <link name="Structure_Sensor_Link">
    <inertial>
      <origin xyz="2.2259e-06 -0.037878 0.0056313" rpy="0.0 0.0 0.0"/>
      <mass value="0.35771"/>
      <inertia ixx="0.00037964" ixy="-5.261e-09" ixz="-7.6239e-10" iyy="3.9054e-05" iyz="-6.5398e-07" izz="0.00037075"/>
    </inertial>
    <visual name="Structure_Sensor_Visual">
      <origin xyz="0.0 0.0 0.0" rpy="0.0 0.0 0.0"/>
      <geometry>
        <mesh filename="../meshes/Structure_Sensor_Torso.stl"/>
      </geometry>
      <material name="">
        <color rgba="0.69804 0.69804 0.69804 1.0"/>
      </material>
    </visual>
    <collision name="Structure_Sensor_Collision">
      <origin xyz="1e-06 -0.038238 0.004648" rpy="1.570802 -9.8e-05 0.0"/>
      <geometry>
        <box size="0.028000000729643003 0.029505212322060586 0.11954026100239445"/>
      </geometry>
    </collision>
  </link>
</robot>
